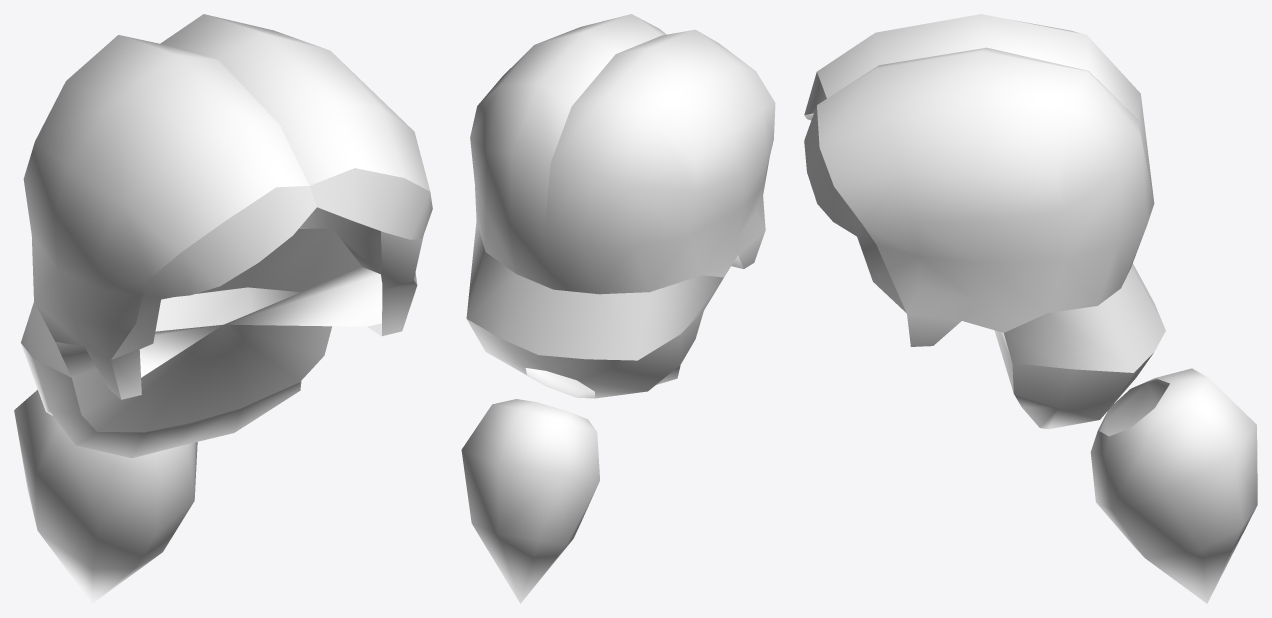
Rendered from Female_Hairs_02_v2.fbx.
3 views of the same model, side by side, from view 1: azimuth 30°, elevation 25°; view 2: azimuth 150°, elevation 25°; view 3: azimuth 270°, elevation 25° (orthographic). The views are drawn at different scales.
Parts seen in each view (by area): view 1: Female_Hairs_02_v2; view 2: Female_Hairs_02_v2; view 3: Female_Hairs_02_v2.
Part boxes in pixels (x1,y1,x2,y2): Female_Hairs_02_v2: (14, 14, 432, 603); Female_Hairs_02_v2: (461, 14, 775, 603); Female_Hairs_02_v2: (804, 14, 1257, 603).
Size of the model in its own units: 53.19 by 100 by 72.06.
